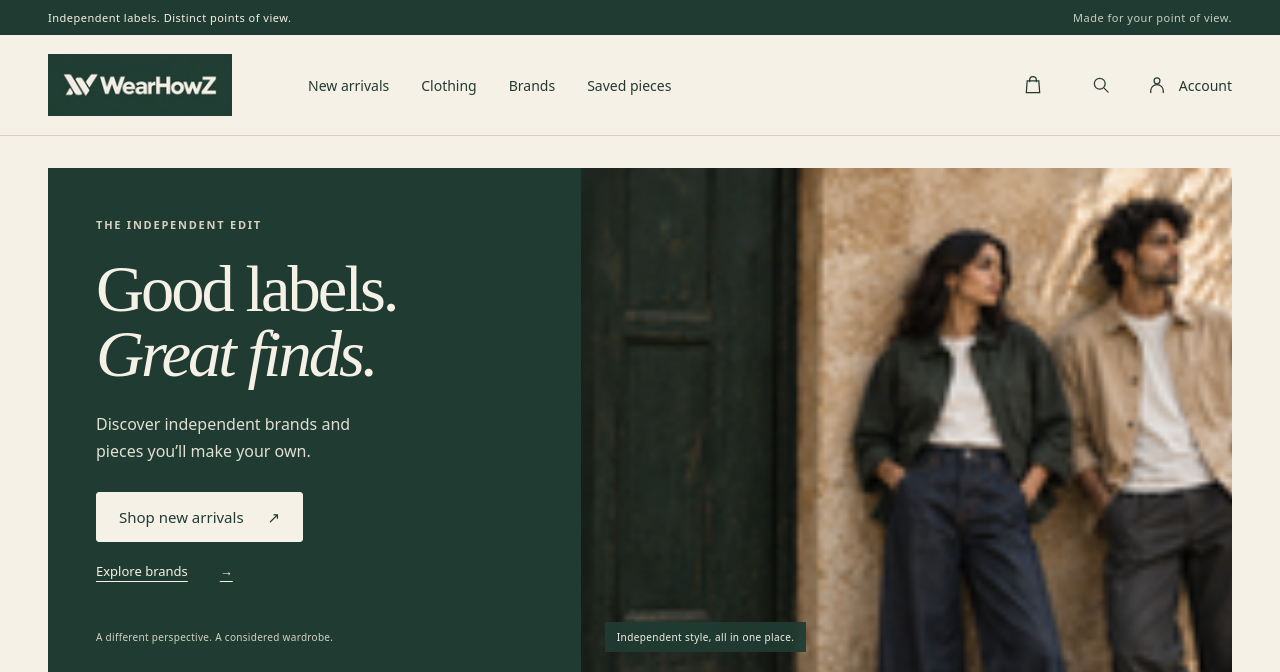
Test: submits search through the URL and backend query
Click the button named "Search clothing" at x=1101, y=85, box [1079,63,1123,107]
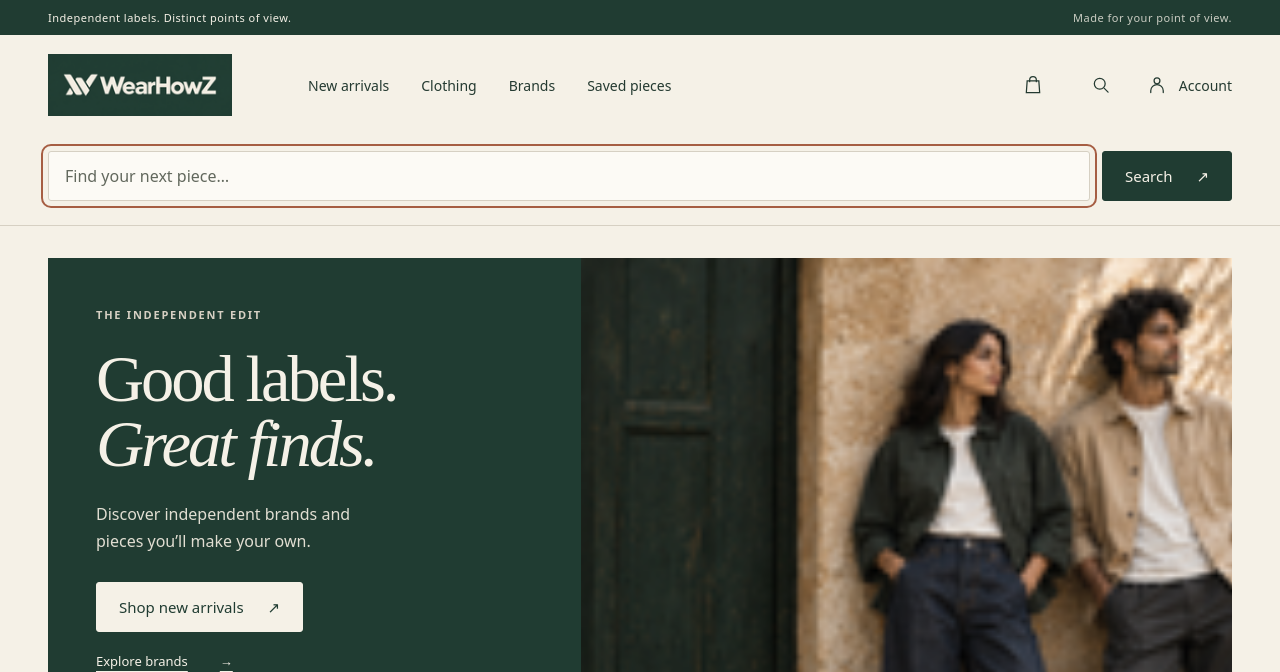
Type "linen" into the search field named "Search clothing" at x=569, y=176, box [48,151,1090,201]
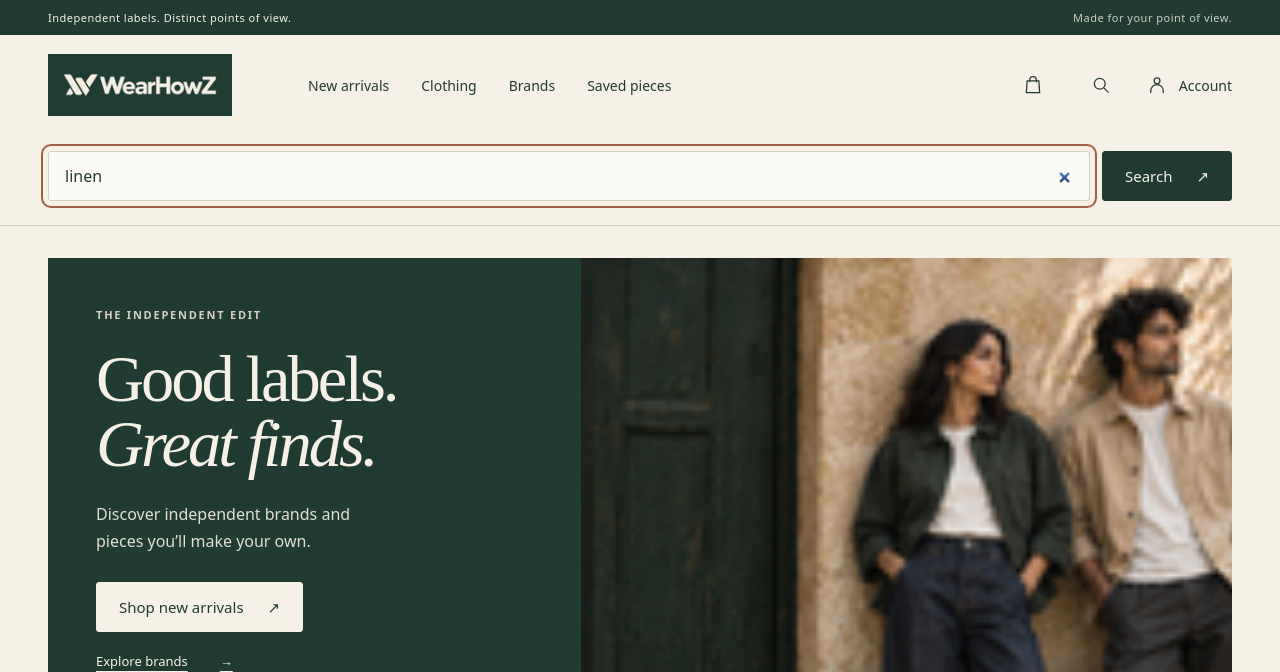
Click the button "Search ↗" at x=1167, y=176, box [1102,151,1232,201]
(page scrolled)
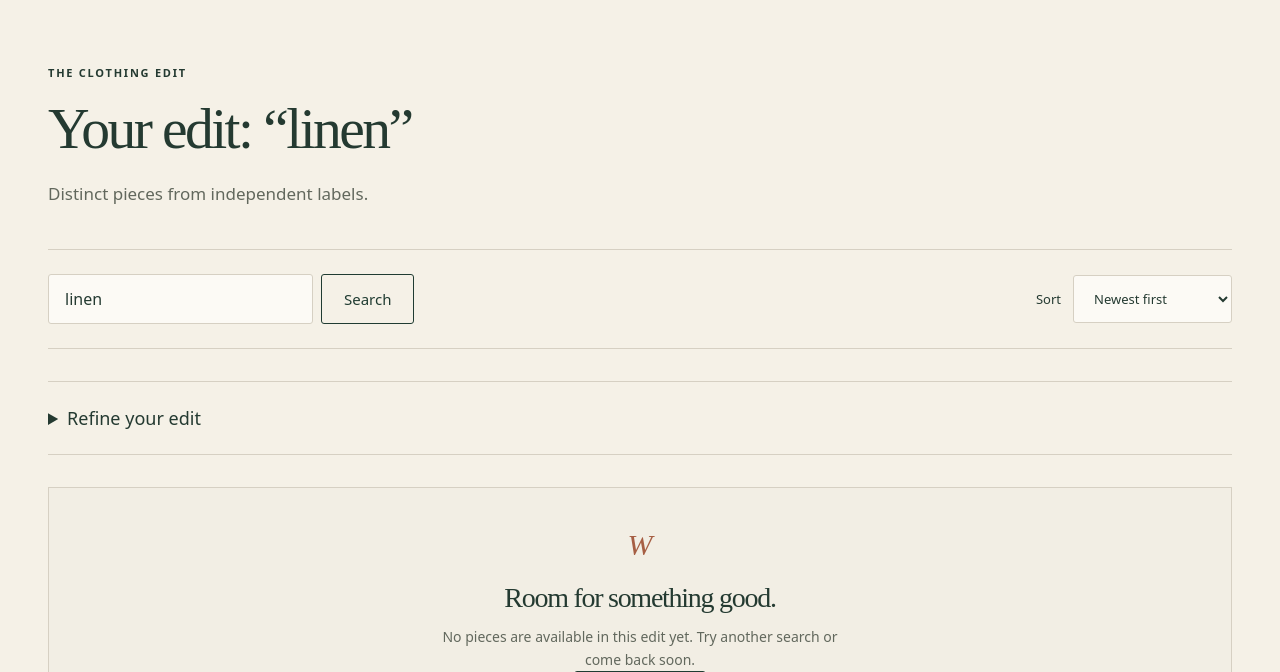
Check: the heading "Your edit: “linen”" is shown, box [48,97,411,160]
